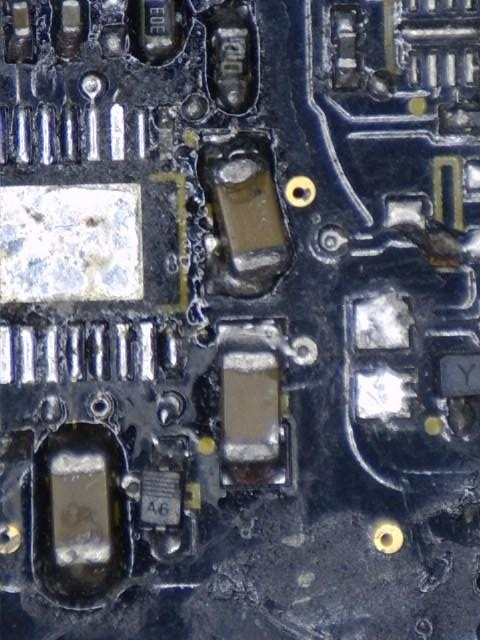pcb_defect: (200, 134, 293, 299), (381, 191, 480, 264), (215, 319, 318, 372)
